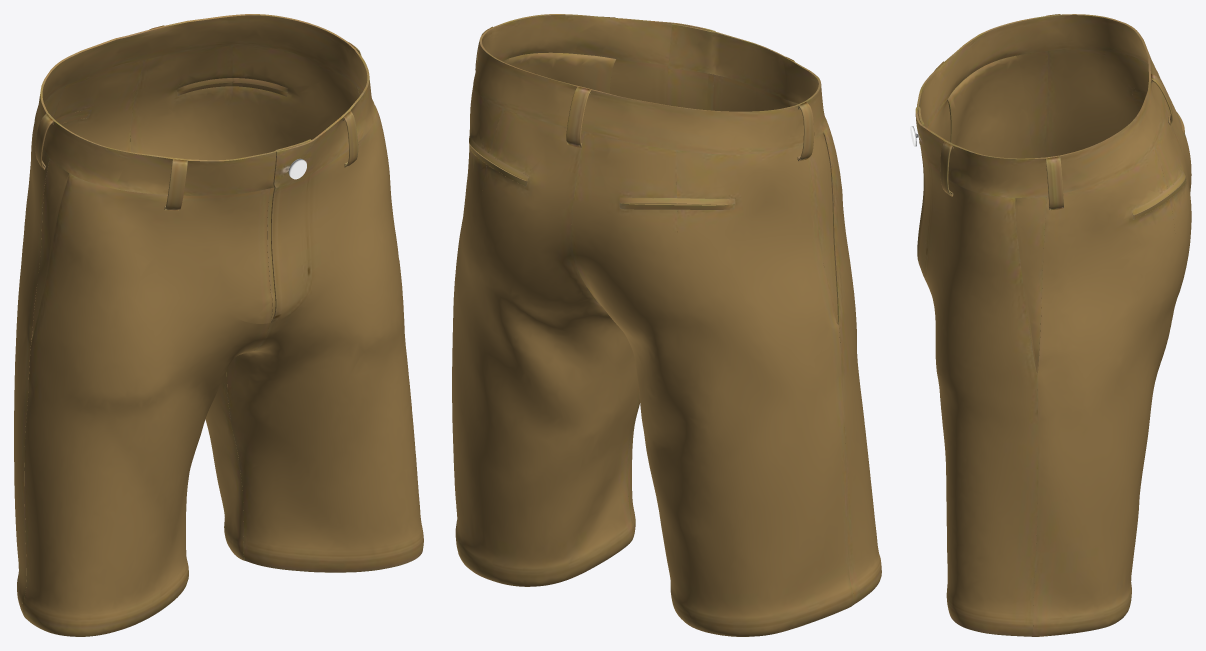
Rendered from shortpant.glb.
The picture shows the model from 3 angles, left to right: view 1: azimuth 30°, elevation 25°; view 2: azimuth 150°, elevation 25°; view 3: azimuth 270°, elevation 25°; orthographic projection. The views are drawn at different scales.
Visible parts, largest first — view 1: Men Suit Short Pant_W_Twill_98 Ctn 2Spa_260GSM_H_DF22018_FRO; view 2: Men Suit Short Pant_W_Twill_98 Ctn 2Spa_260GSM_H_DF22018_FRO; view 3: Men Suit Short Pant_W_Twill_98 Ctn 2Spa_260GSM_H_DF22018_FRO.
Part boxes in pixels (<box>): Men Suit Short Pant_W_Twill_98 Ctn 2Spa_260GSM_H_DF22018_FRO: <box>14,14,423,636</box>; Men Suit Short Pant_W_Twill_98 Ctn 2Spa_260GSM_H_DF22018_FRO: <box>452,14,881,636</box>; Men Suit Short Pant_W_Twill_98 Ctn 2Spa_260GSM_H_DF22018_FRO: <box>915,14,1191,636</box>.
Bounding box in the file's own units: 0.4038 × 0.5176 × 0.271.
2 materials, 2 textured.
